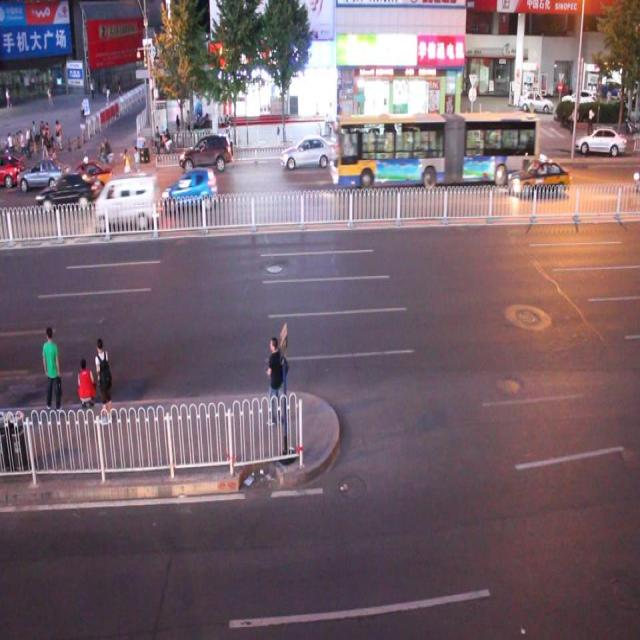car: (508, 160, 569, 196), (165, 170, 217, 212), (36, 175, 97, 210), (180, 135, 232, 171), (16, 158, 72, 190), (280, 136, 335, 168), (62, 160, 113, 193), (575, 125, 624, 156), (1, 152, 24, 190)
truck: (94, 178, 159, 229)
van: (330, 115, 536, 186)
